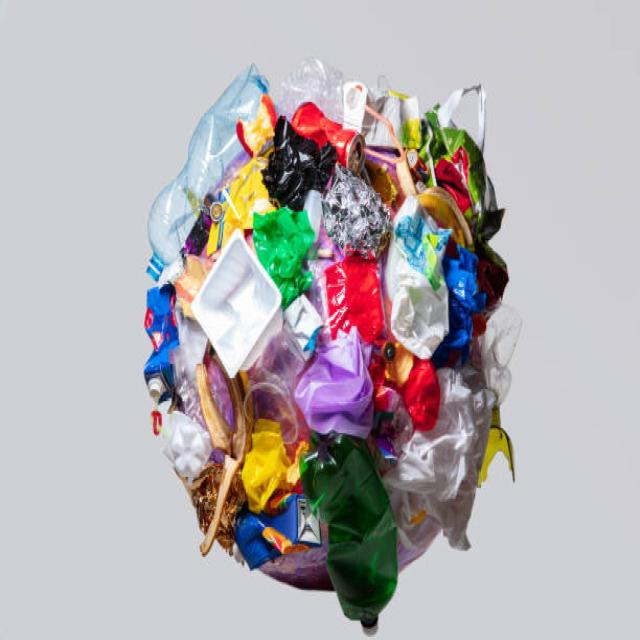plastic: (245, 143, 482, 510)
